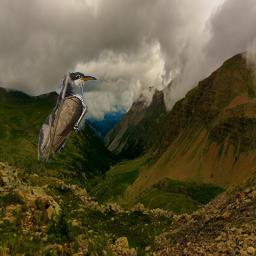Cuckoo: (38, 72, 111, 164)
